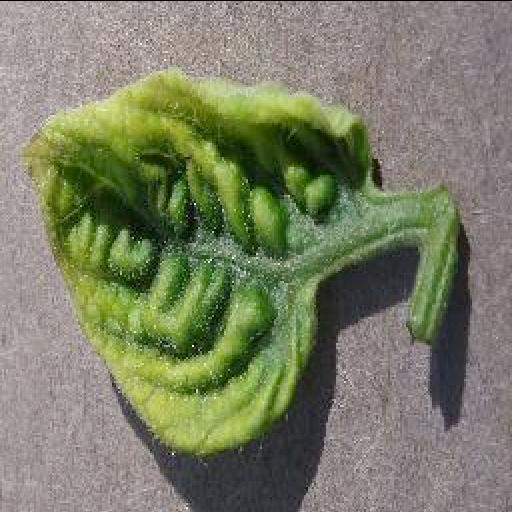disease_tomato: (30, 68, 380, 452)
